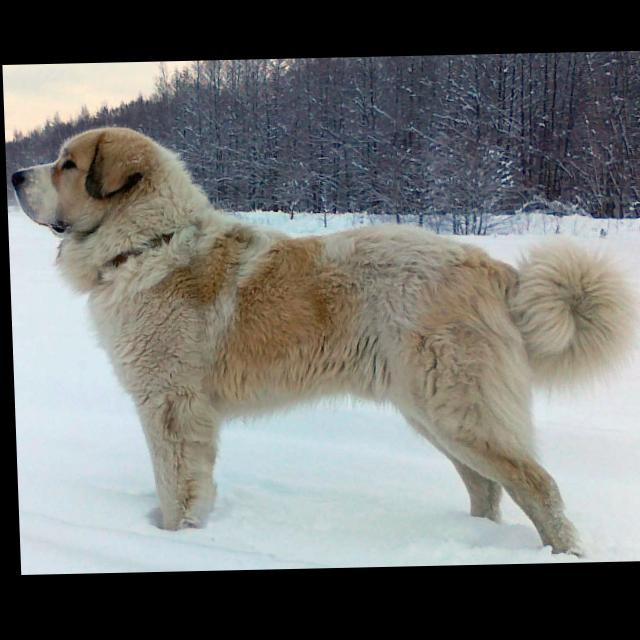other_dog_breed: (9, 117, 640, 571)
